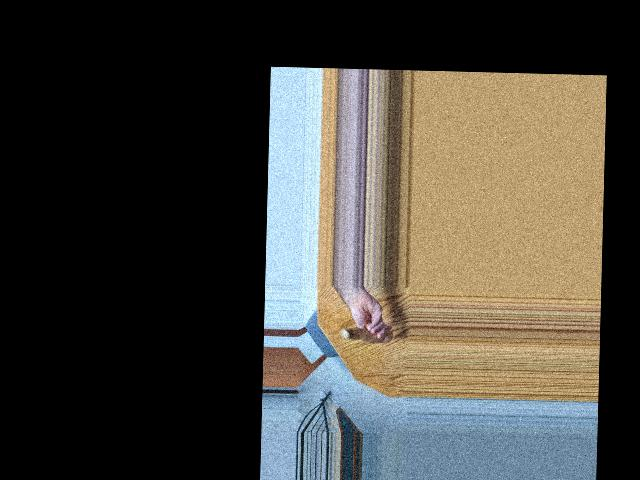sweet_potato: (340, 322, 391, 344)
